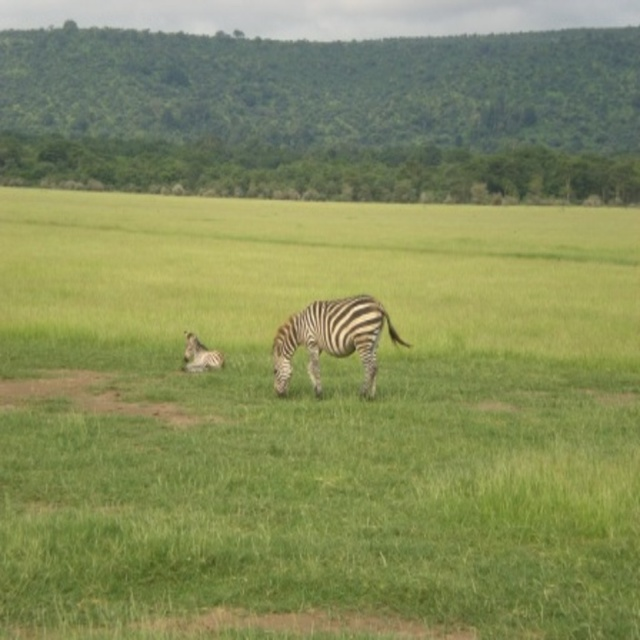Zebra: (269, 294, 414, 402), (179, 333, 224, 372)
